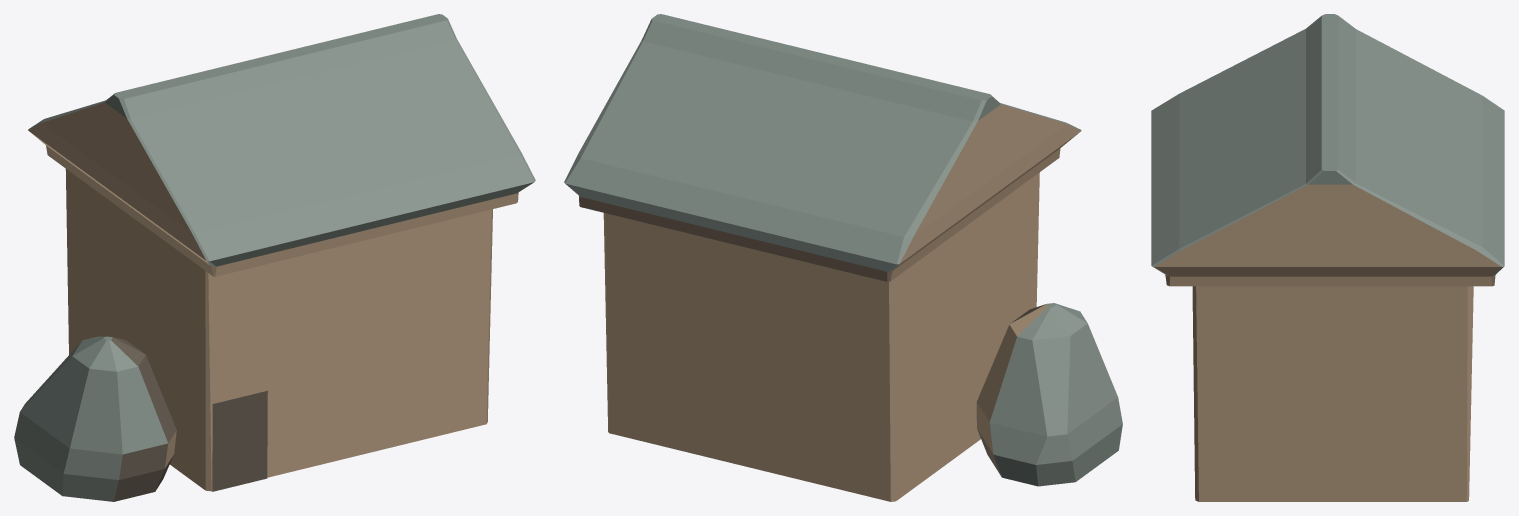
Rendered from loin.glb.
3 views of the same model, side by side, from view 1: azimuth 30°, elevation 25°; view 2: azimuth 150°, elevation 25°; view 3: azimuth 270°, elevation 25° (orthographic). The views are drawn at different scales.
Visible parts, largest first — view 1: loin; view 2: loin; view 3: loin.
Part boxes in pixels (x1,y1,x2,y2): loin: (14, 14, 535, 501); loin: (564, 14, 1122, 501); loin: (1151, 14, 1504, 501).
Bounding box in the file's own units: 0.9533 × 0.7579 × 0.7084.
